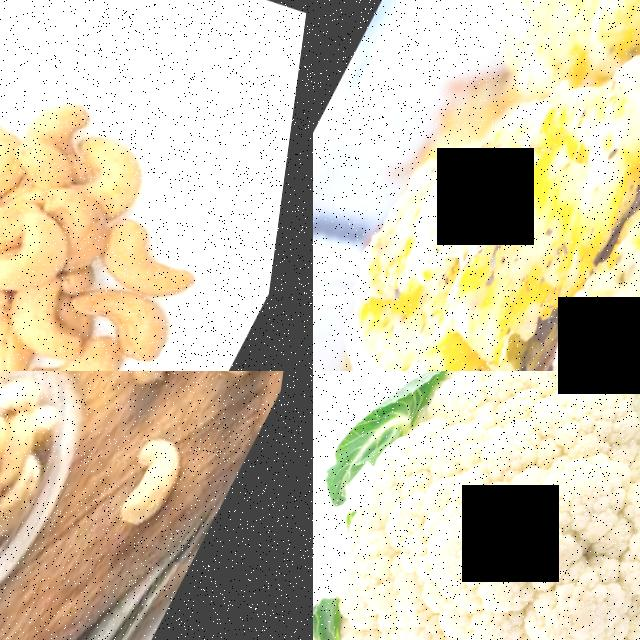cashew: (80, 208, 224, 319), (97, 441, 215, 576), (65, 277, 207, 371), (56, 130, 173, 235), (0, 277, 108, 371), (174, 371, 303, 435), (0, 221, 88, 308), (18, 84, 98, 159), (95, 371, 205, 416), (0, 110, 45, 217), (0, 185, 35, 275), (52, 349, 125, 371)
cauliflower: (313, 371, 640, 640)
